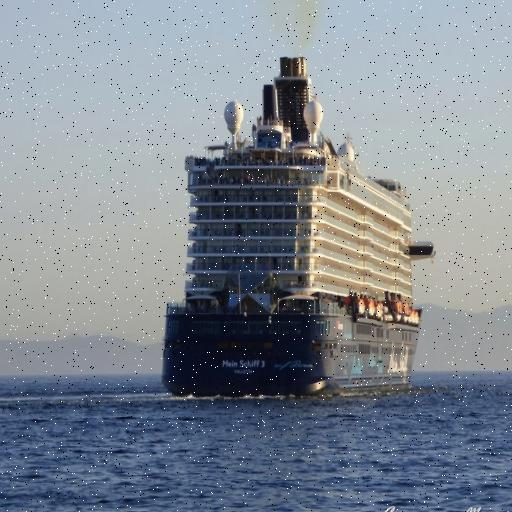cruises: (160, 53, 438, 409)
